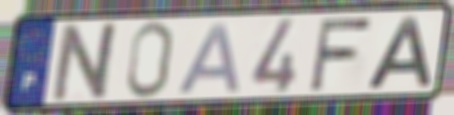0: (124, 18, 175, 102)
4: (249, 14, 301, 97)
A: (363, 14, 434, 91), (174, 20, 244, 96)
F: (307, 15, 376, 93)
N: (48, 19, 125, 104)
